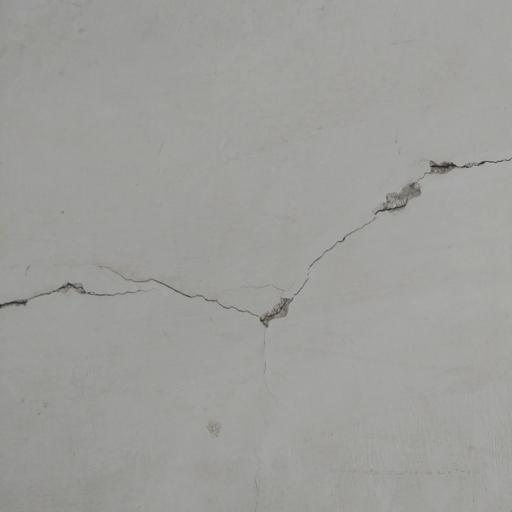major_crack: (0, 124, 512, 359)
